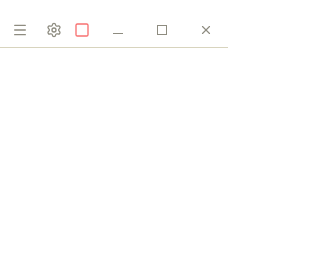
TitleBar — Hamburger menu › tb-6: hamburger opens the menu dropdown
Step 1. Click the button named "open menu" → point(20, 30), box [6,16,34,44]
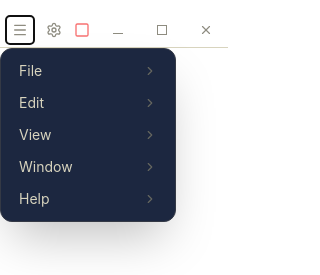
Now the text "File" is shown, box [19,60,42,80]
Now the text "Edit" is shown, box [19,92,44,112]
Now the text "View" is shown, box [19,124,51,144]
